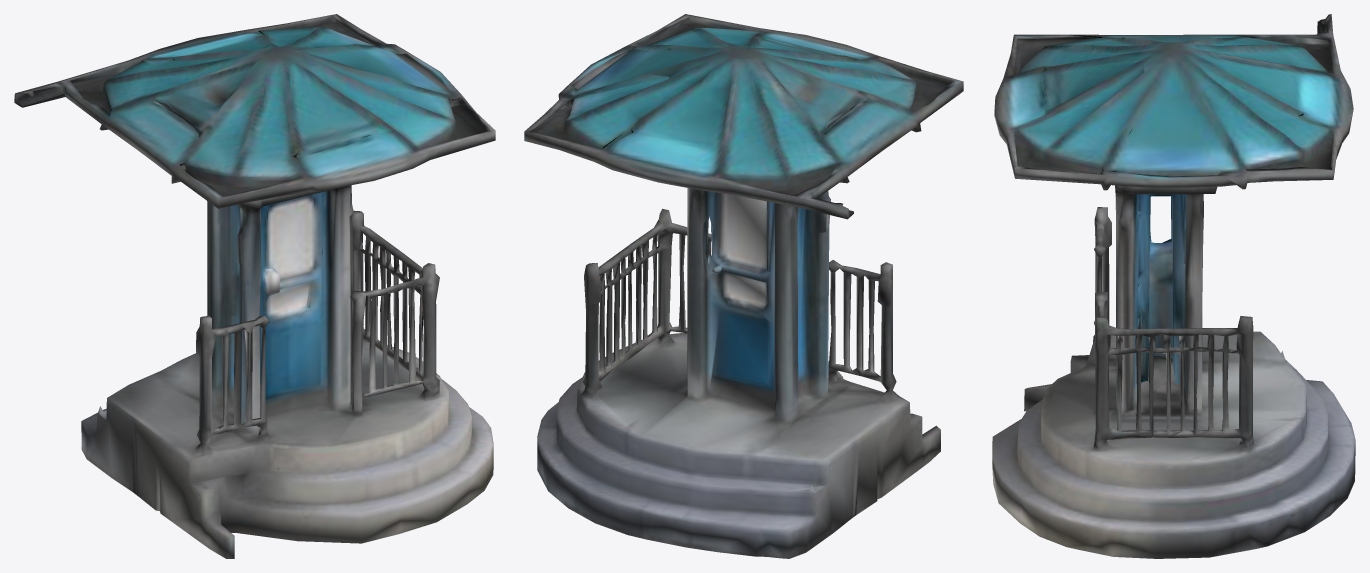
File: subway_entrance.glb
The picture shows the model from 3 angles, left to right: view 1: azimuth 30°, elevation 25°; view 2: azimuth 150°, elevation 25°; view 3: azimuth 270°, elevation 25°; orthographic projection.
Parts seen in each view (by area): view 1: subway_entrance; view 2: subway_entrance; view 3: subway_entrance.
Boxes of the visible parts, box(x1,y1,x2,y2) form: subway_entrance: box(14, 14, 495, 558); subway_entrance: box(524, 14, 963, 558); subway_entrance: box(992, 14, 1355, 558).
Size of the model in its own units: 2.93 by 3.2 by 2.51.
Materials: 1 (1 with a texture image).
